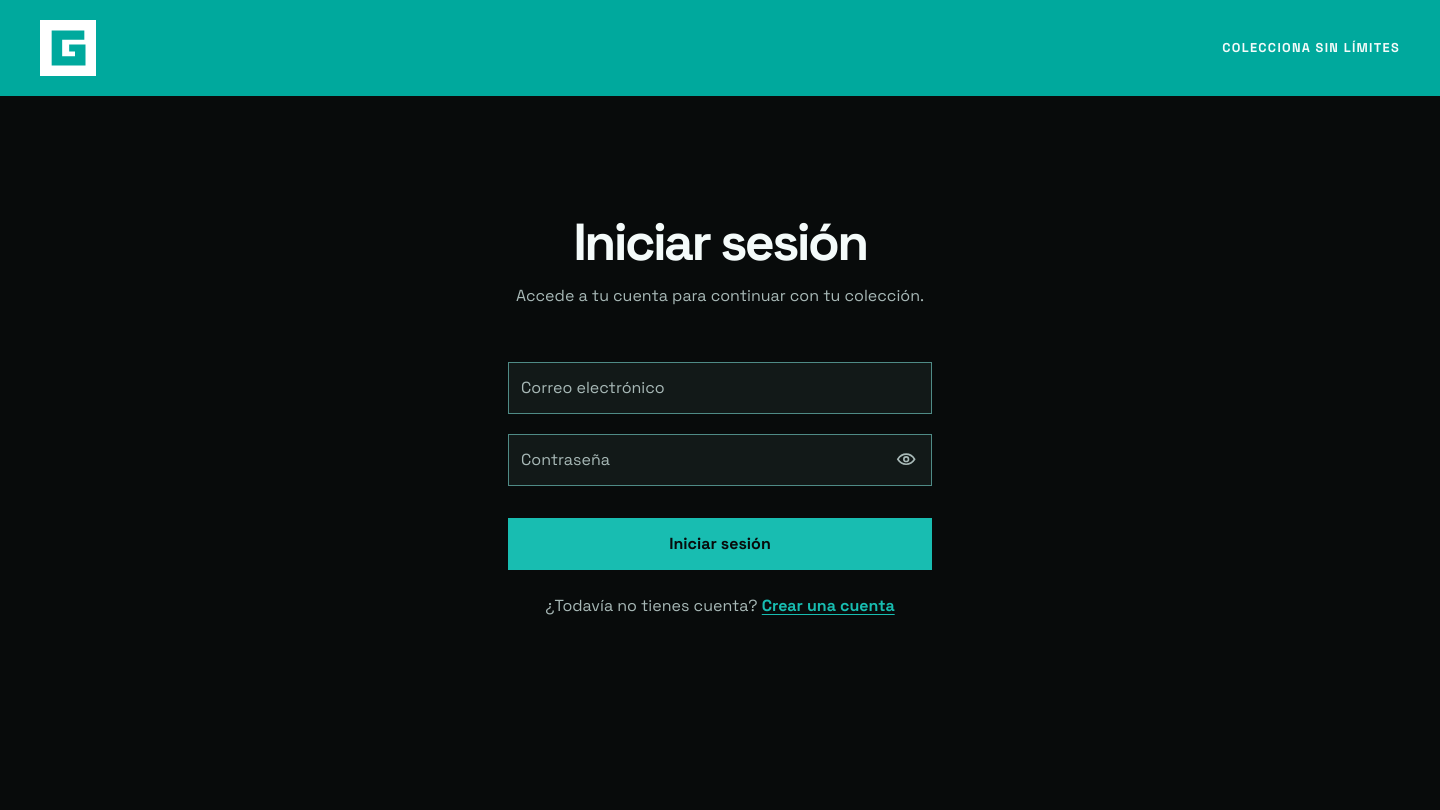
autenticación › inicia sesión con correo y contraseña
expect the heading "Iniciar sesión" is shown: met, box [573, 209, 867, 275]
Step 1. Type "ada@example.com" into the field labelled "Correo electrónico" → (720, 388), box [508, 362, 932, 414]
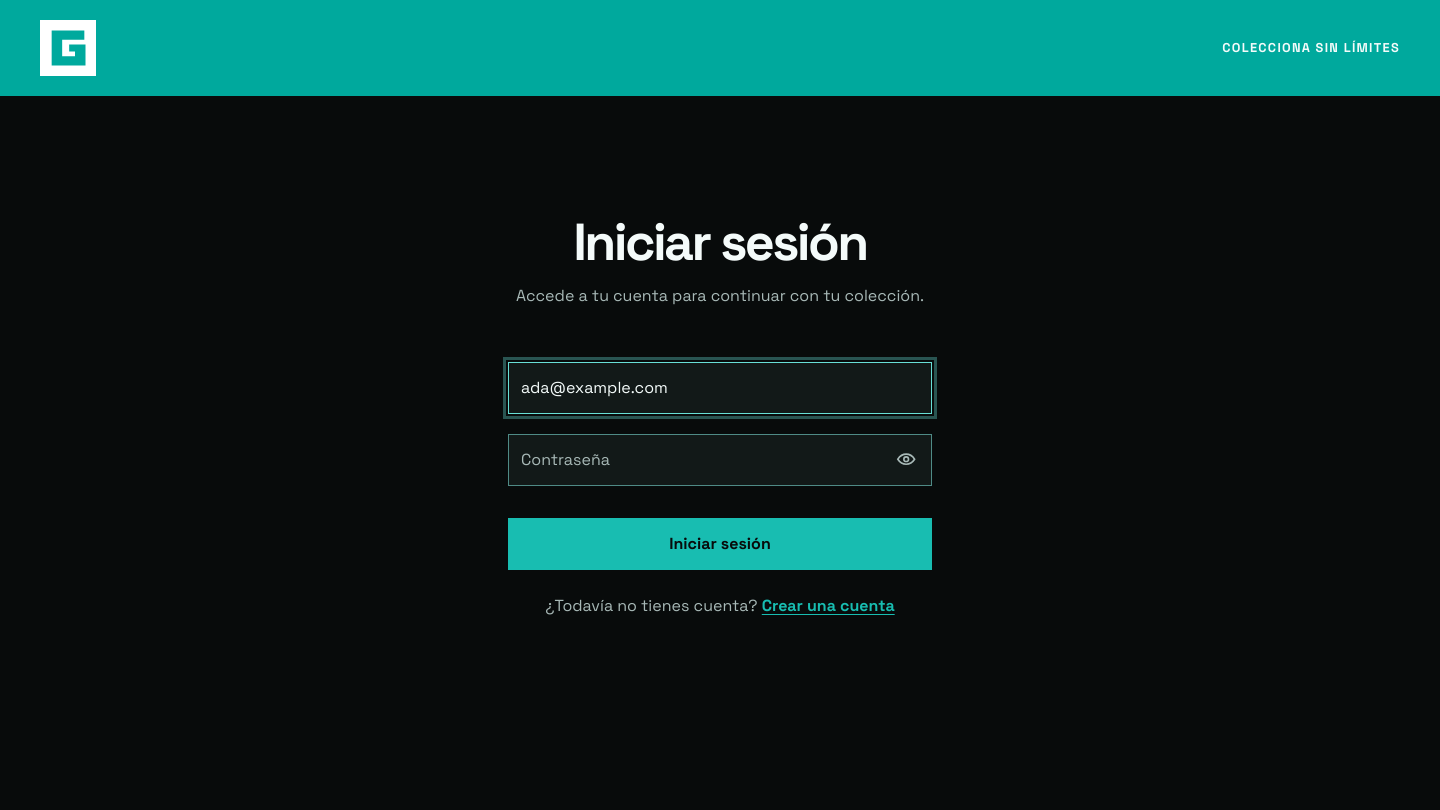
Step 2. Type "una-clave-segura" into the password field labelled "Contraseña" → (720, 460), box [508, 434, 932, 486]
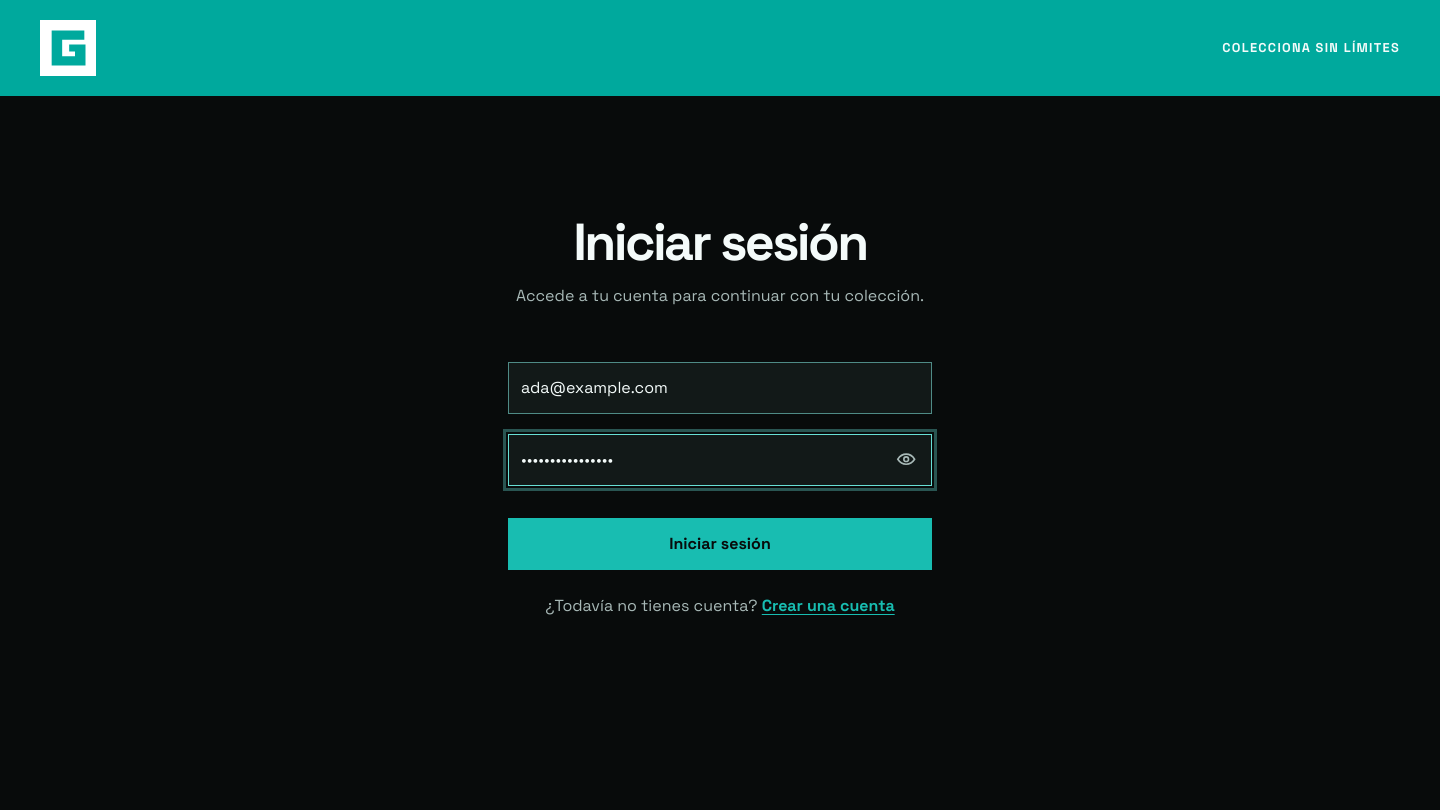
Step 3. Click the button "Iniciar sesión" → (720, 544), box [508, 518, 932, 570]
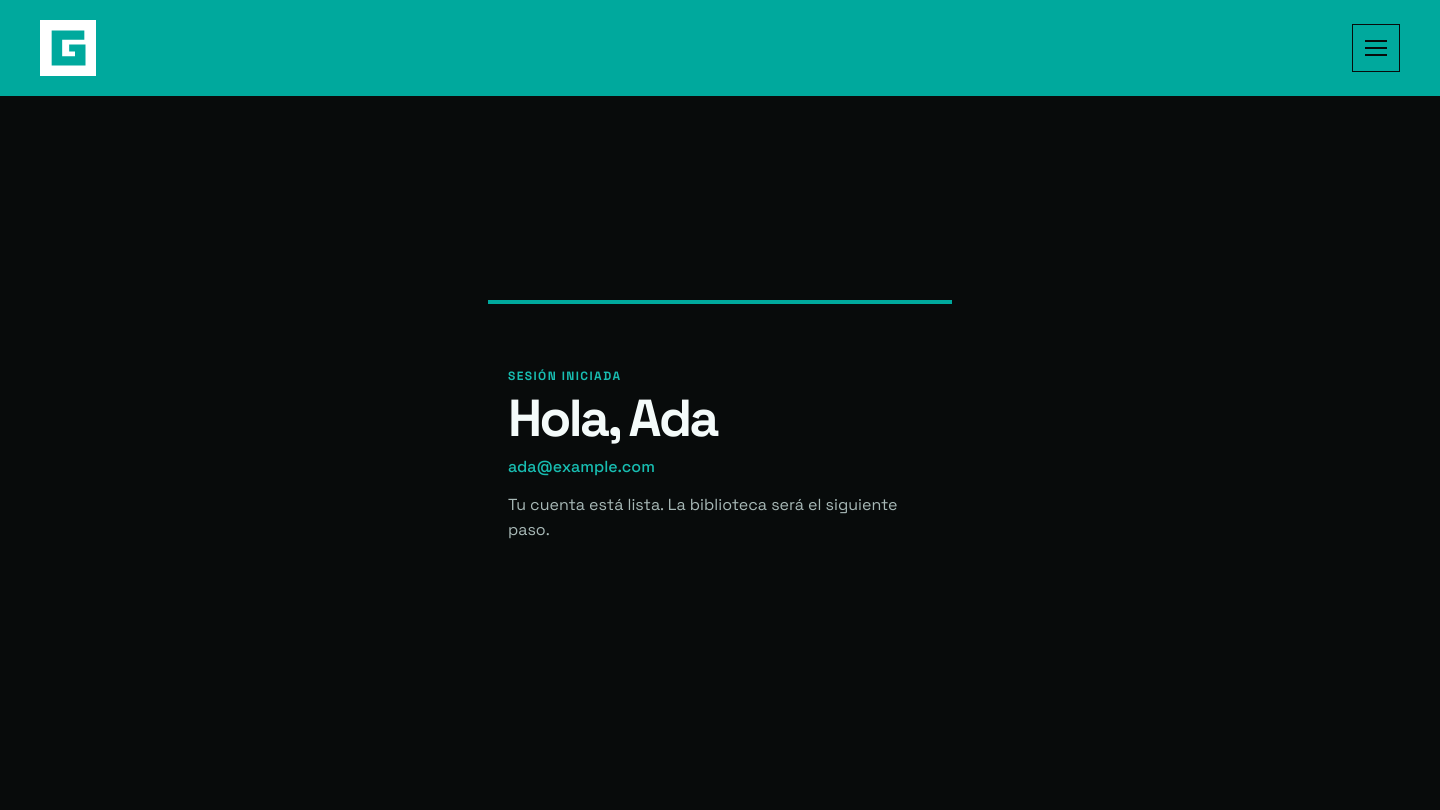
expect the heading "Hola, Ada" is shown: met, box [508, 385, 717, 451]
expect the button named "Abrir menú" is shown: met, box [1352, 24, 1400, 72]
expect the text "Colecciona sin límites" is gone: met
